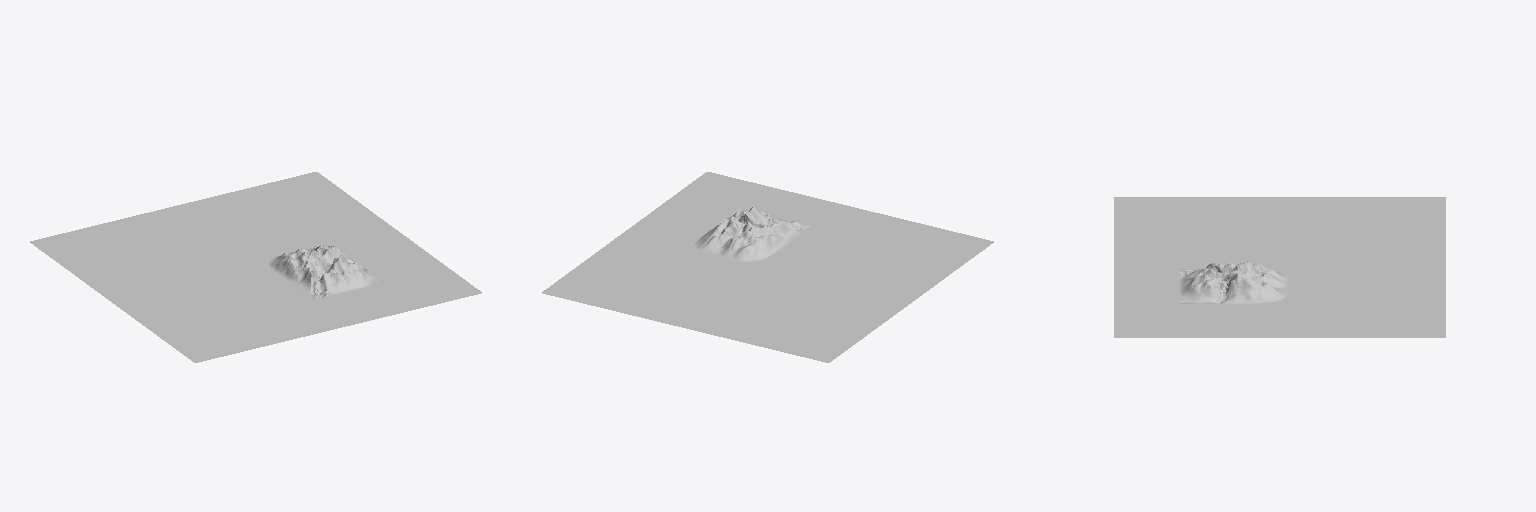
File: mount.blend1.obj
The picture shows the model from 3 angles: view 1: azimuth 30°, elevation 25°; view 2: azimuth 150°, elevation 25°; view 3: azimuth 270°, elevation 25°; orthographic projection.
Visible parts, largest first — view 1: Plane, Landscape; view 2: Plane, Landscape; view 3: Plane, Landscape.
Part boxes in pixels (bbox=[...]): Plane: bbox=[30, 172, 481, 362]; Landscape: bbox=[258, 243, 385, 299]; Plane: bbox=[542, 172, 993, 362]; Landscape: bbox=[685, 207, 811, 265]; Plane: bbox=[1114, 197, 1445, 337]; Landscape: bbox=[1179, 261, 1287, 303].
Bounding box in the file's own units: 25.51 × 1.93 × 25.51.